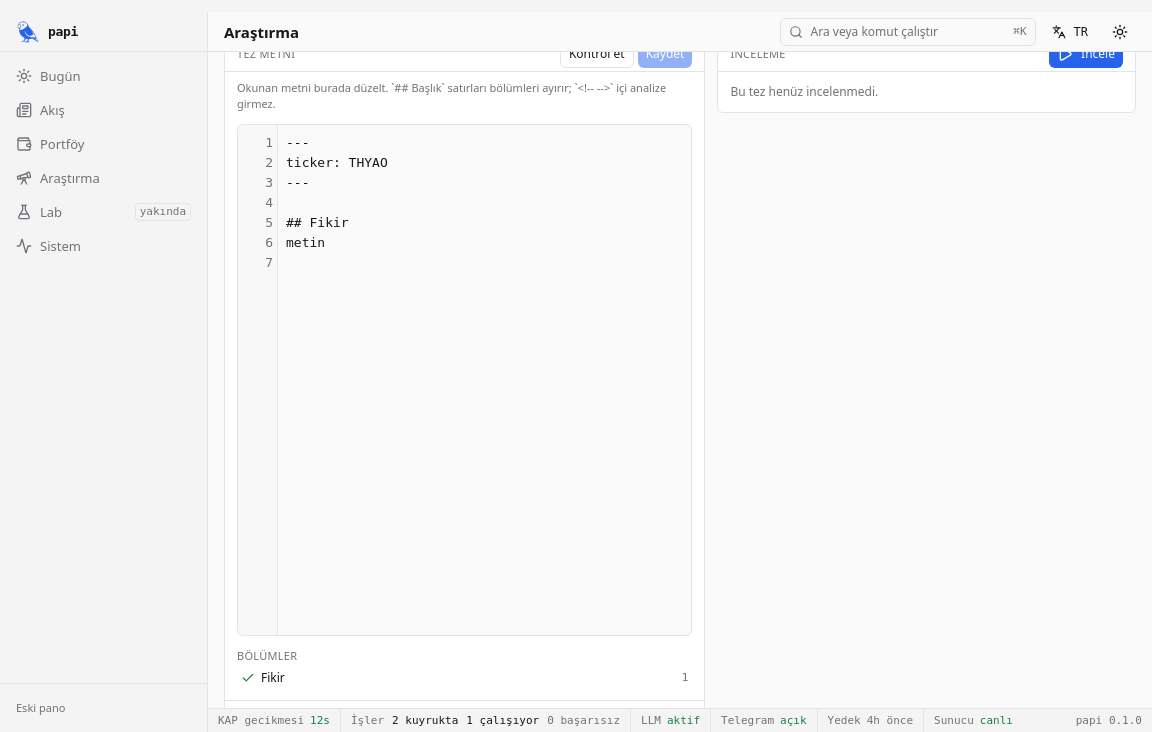
Test: theses › editor saves the text and shows the parse errors with their lines
The width and height of the screenshot is (1152, 732).
(page scrolled)
Replace the text in the text box named "Tez metni" with "x" at (485, 380), box [278,125,691,635]
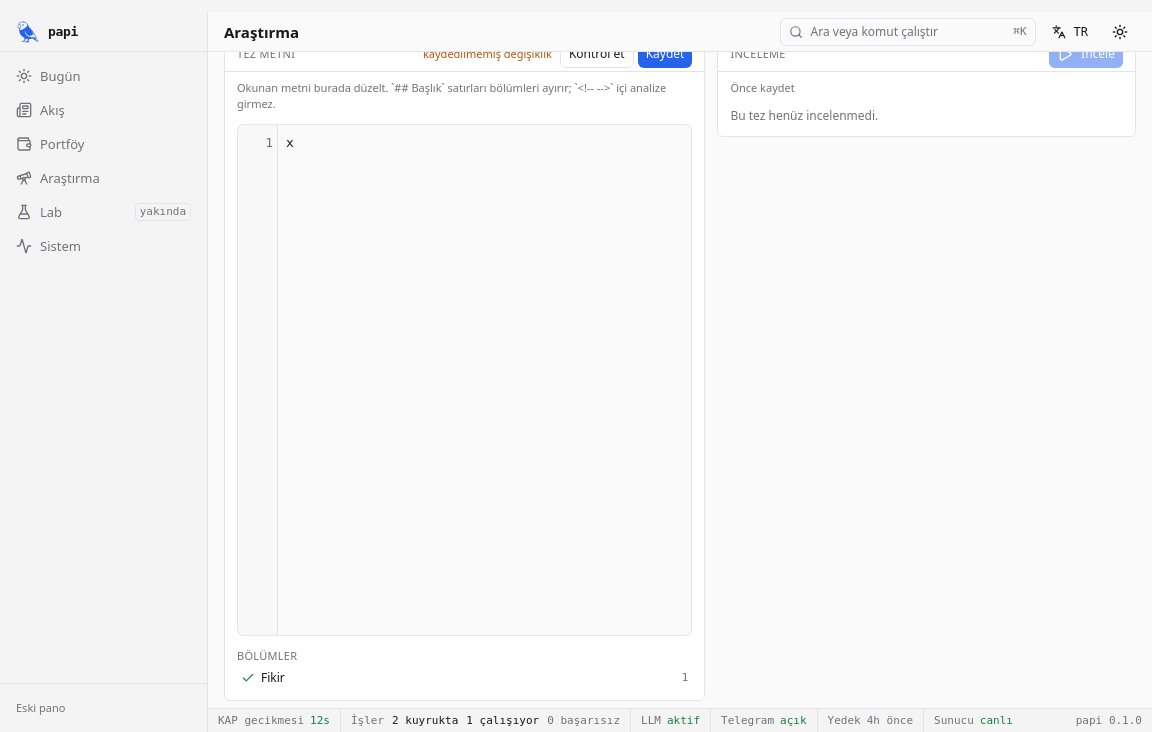
Click the button "Kaydet" at (665, 54), box [638,40,692,68]
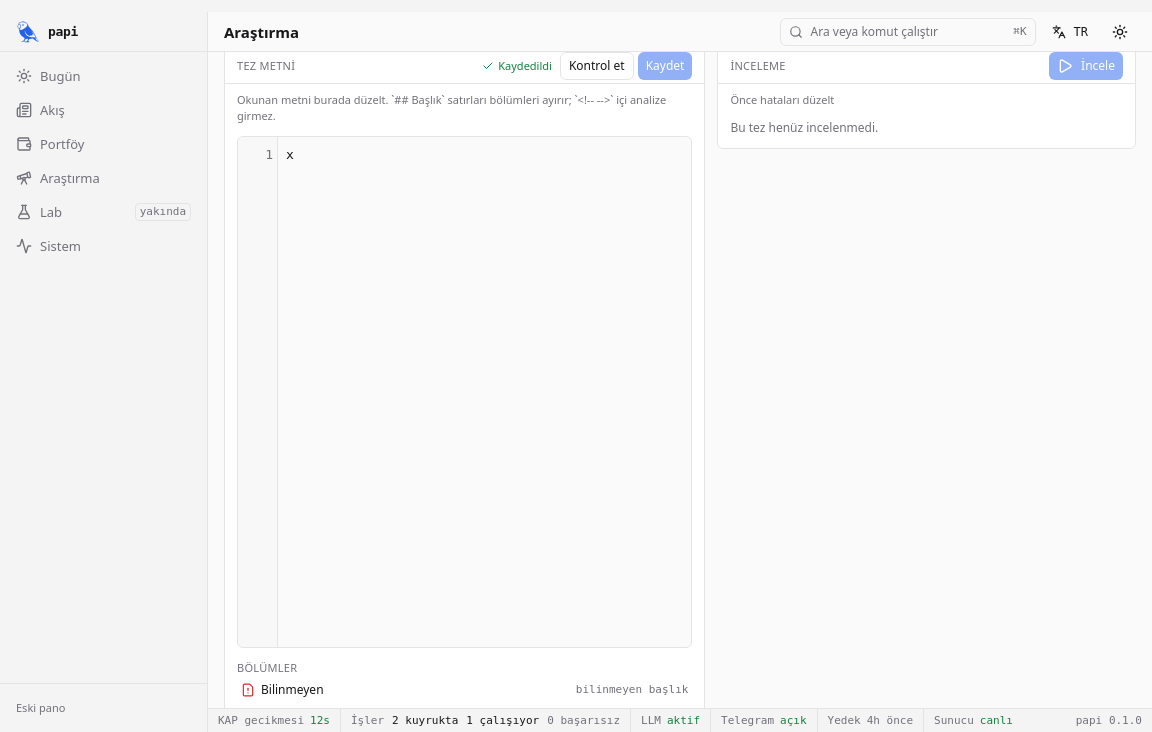
expect the button "İncele" is disabled: met, box [1049,52,1123,80]
expect the text "bilinmeyen başlık" is shown: met, box [576,682,688,698]
